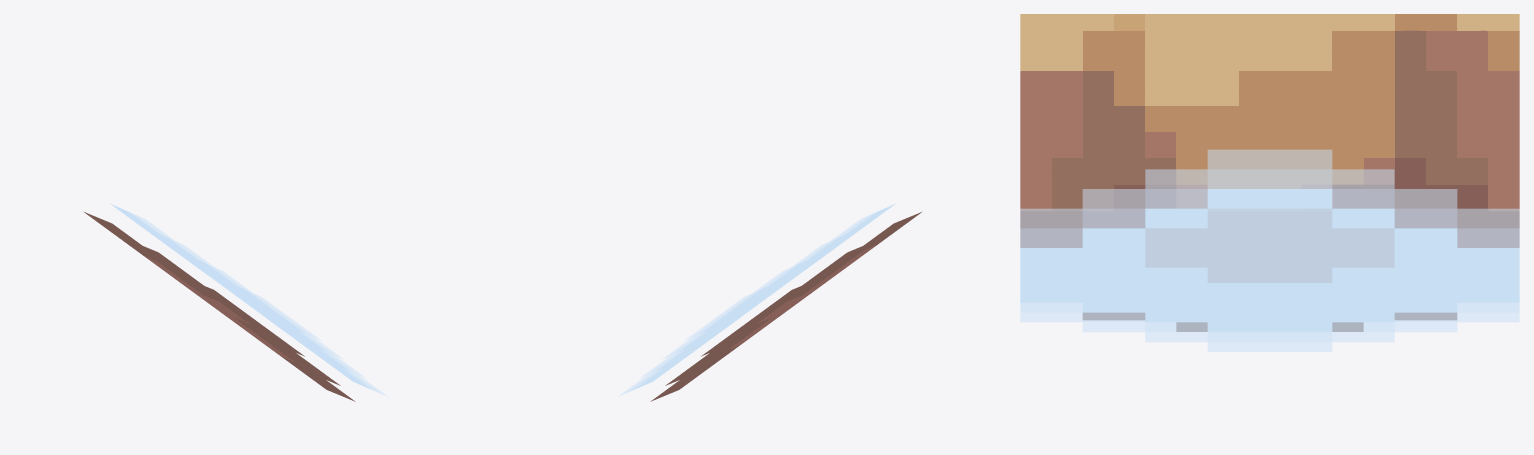
3 renders of one model, left to right at view 1: azimuth 30°, elevation 25°; view 2: azimuth 150°, elevation 25°; view 3: azimuth 270°, elevation 25°, orthographic. The views are drawn at different scales.
Size of the model in its own units: 0.5459 by 0.6892 by 1.
2 materials, 2 textured.
